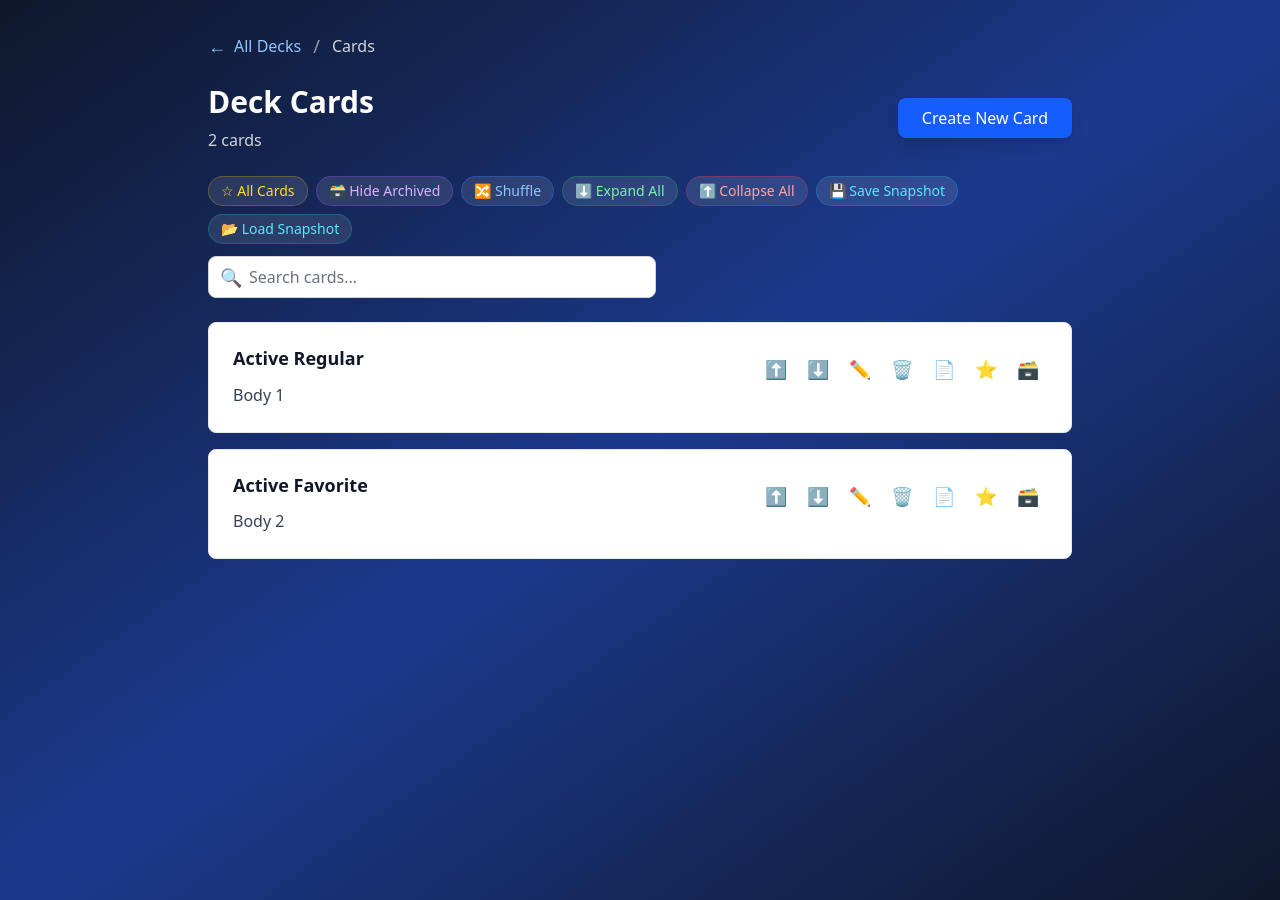
Test case: CardScreen Filters (Favorites / Archived) › filters to favorites only when favorites toggle enabled
The width and height of the screenshot is (1280, 900).
Click the button with aria-label "toggle favorites filter". click: [258, 191]
box: [208,176,308,206]
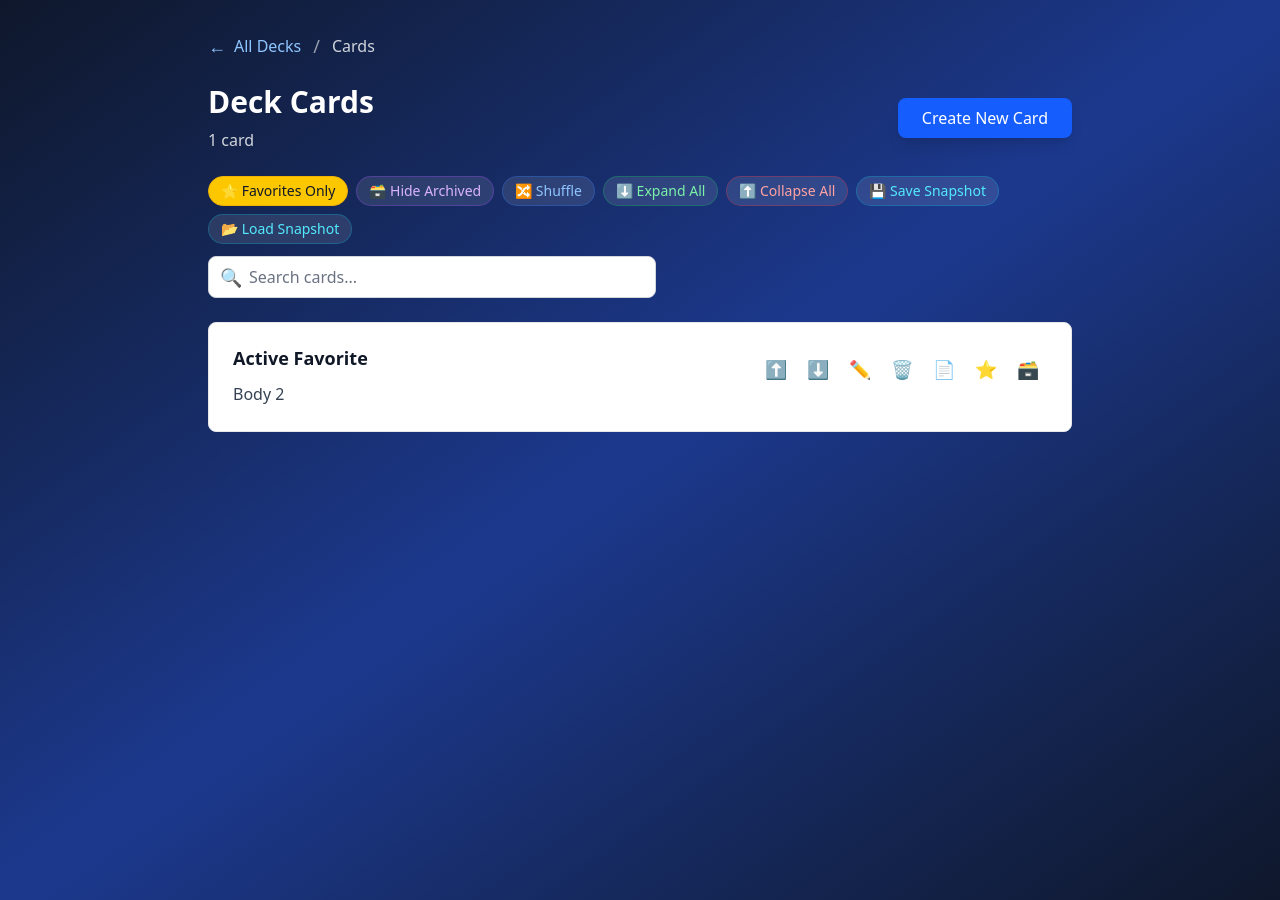
Check: the heading "Active Favorite" is shown, box [233,346,368,370]
Check: the button "Active Regular" is gone
